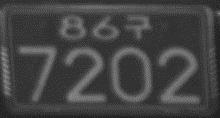0: (110, 45, 153, 104)
2: (158, 46, 201, 106), (64, 45, 106, 104)
6: (91, 13, 121, 41)
7: (18, 45, 57, 102)
8: (58, 12, 86, 41)
구: (124, 13, 152, 39)
